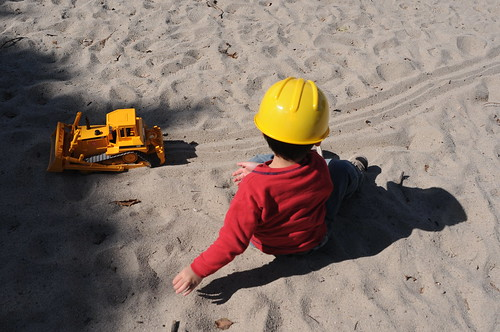person hardhat: (172, 76, 382, 297)
